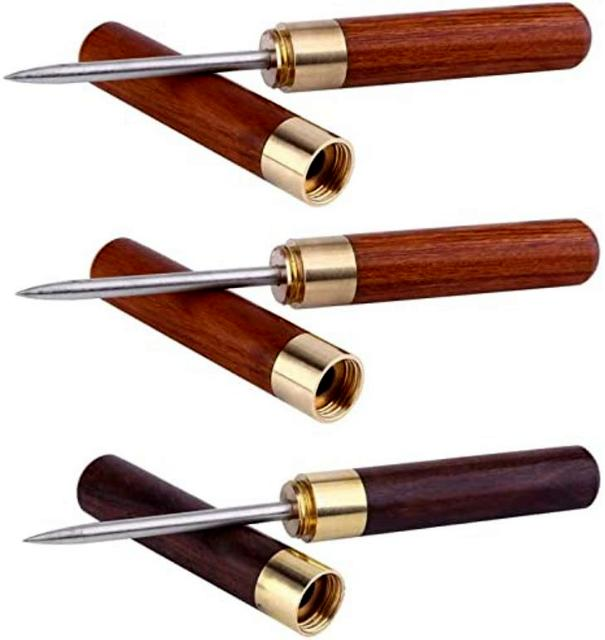ice pick: (21, 444, 602, 546), (13, 215, 600, 311), (2, 2, 592, 96)
